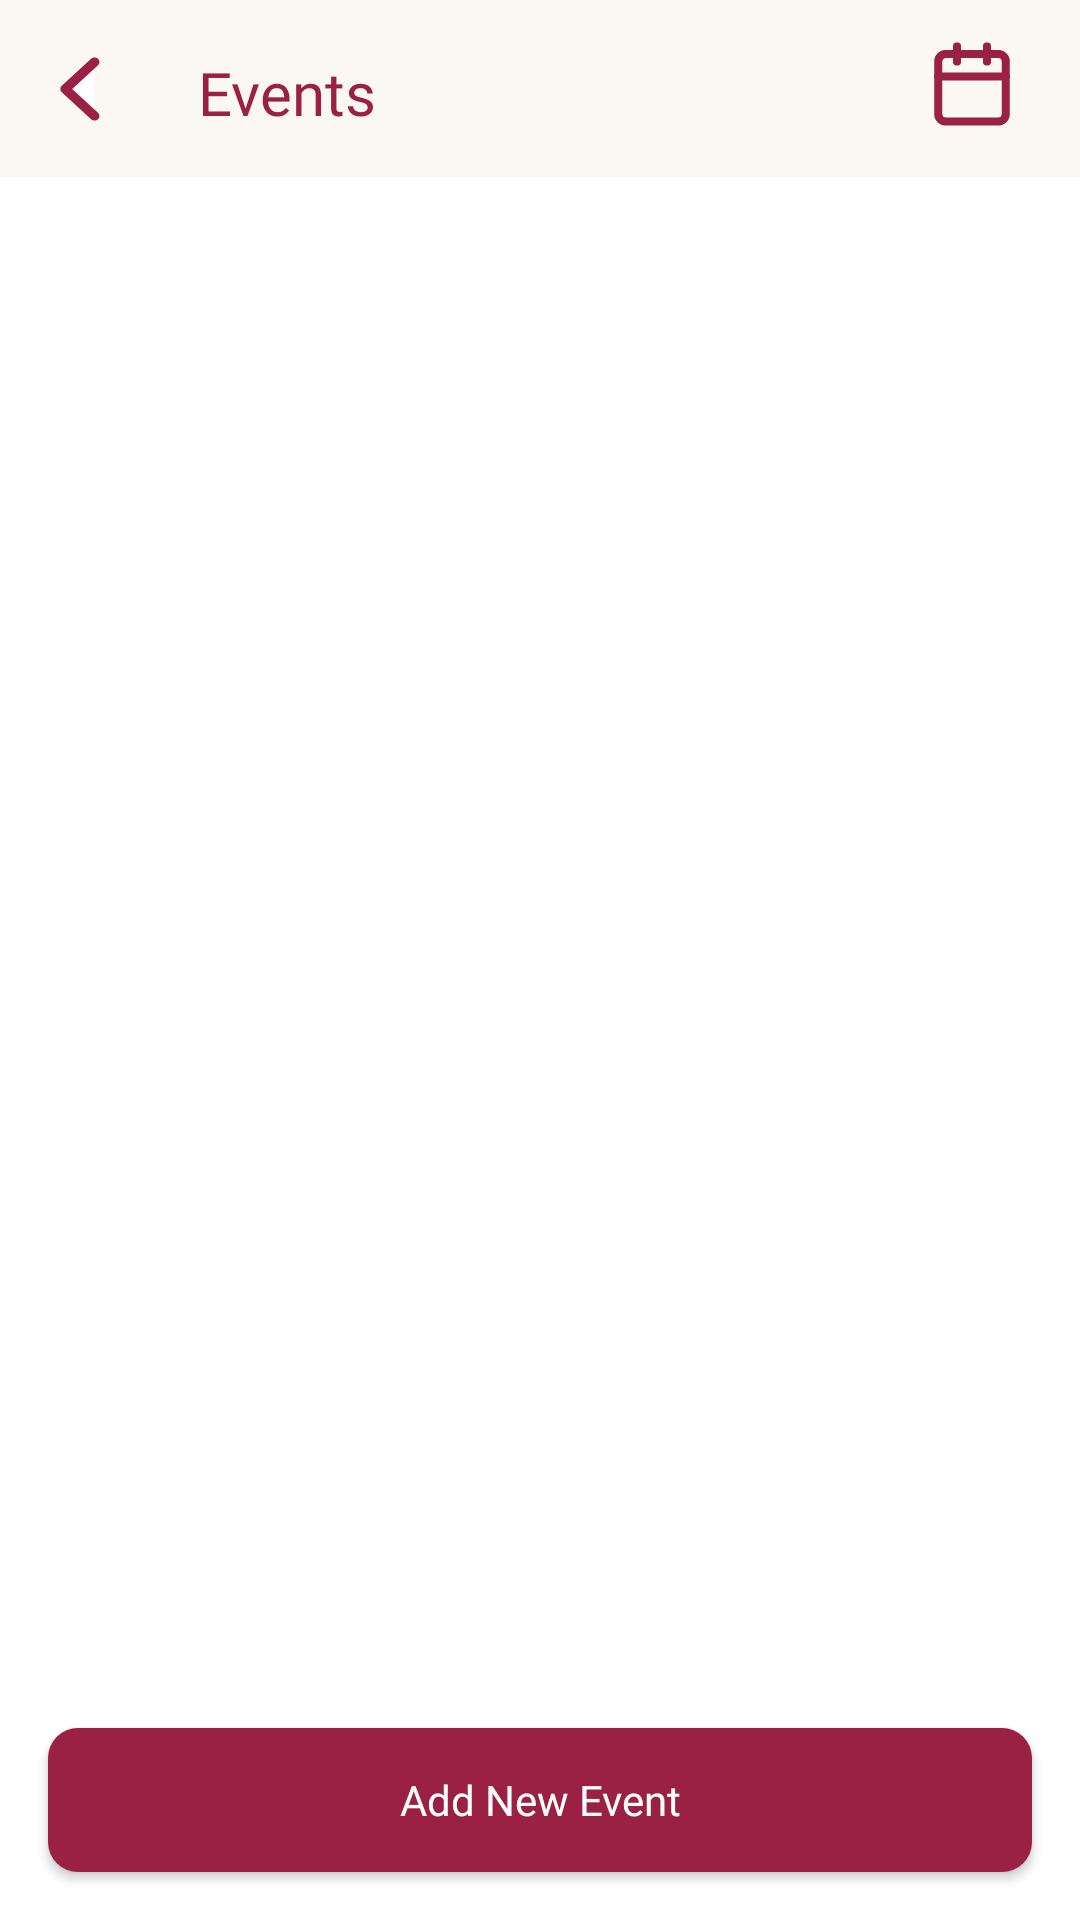

Screen size 1080×1920. Icon name, then its box in pixels as (x1, y1, x2, y2):
back arrow: (60, 57, 100, 121)
calendar: (934, 42, 1010, 126)
